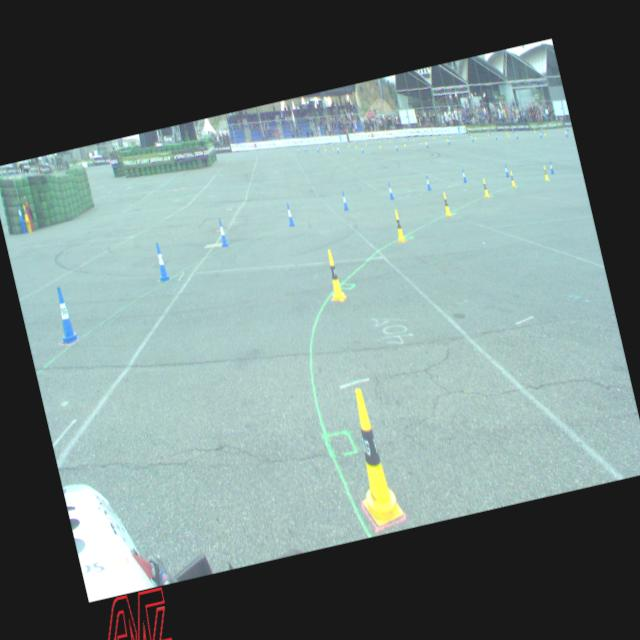blue_cone: (48, 284, 80, 344), (152, 242, 170, 281), (216, 218, 228, 247), (284, 202, 295, 226), (339, 190, 348, 210), (386, 182, 394, 200), (424, 174, 431, 190), (460, 167, 467, 183), (548, 159, 554, 174), (503, 163, 509, 177), (446, 136, 451, 144), (493, 132, 498, 140), (538, 130, 542, 138), (394, 142, 398, 150), (424, 140, 428, 148), (514, 132, 518, 139), (564, 130, 568, 137), (361, 144, 364, 152), (471, 134, 474, 142), (316, 144, 319, 152), (540, 127, 543, 133), (303, 144, 305, 152), (566, 126, 569, 131), (336, 146, 338, 152), (306, 145, 308, 151), (298, 147, 300, 153), (332, 140, 334, 146), (512, 127, 514, 133), (394, 134, 396, 140), (380, 136, 382, 142), (356, 138, 358, 144), (488, 129, 490, 134), (406, 134, 408, 139), (296, 148, 298, 152), (318, 144, 320, 148), (468, 131, 468, 135)
yellow_cone: (338, 384, 404, 526), (320, 248, 347, 304), (391, 208, 406, 243), (440, 191, 451, 217), (480, 177, 490, 197), (508, 169, 516, 186), (541, 164, 549, 181), (402, 138, 406, 146), (542, 128, 546, 136), (378, 140, 382, 147), (444, 134, 448, 141), (354, 140, 357, 148), (423, 136, 426, 144), (448, 131, 451, 138), (506, 130, 509, 137), (563, 126, 566, 132), (347, 140, 349, 148), (474, 132, 476, 139), (533, 126, 535, 132), (412, 134, 414, 140), (504, 128, 506, 134), (486, 130, 488, 136), (388, 137, 390, 143), (324, 144, 326, 150), (323, 144, 325, 150), (469, 132, 471, 137), (332, 144, 334, 149), (432, 134, 434, 138), (364, 140, 366, 144), (337, 144, 339, 148)
